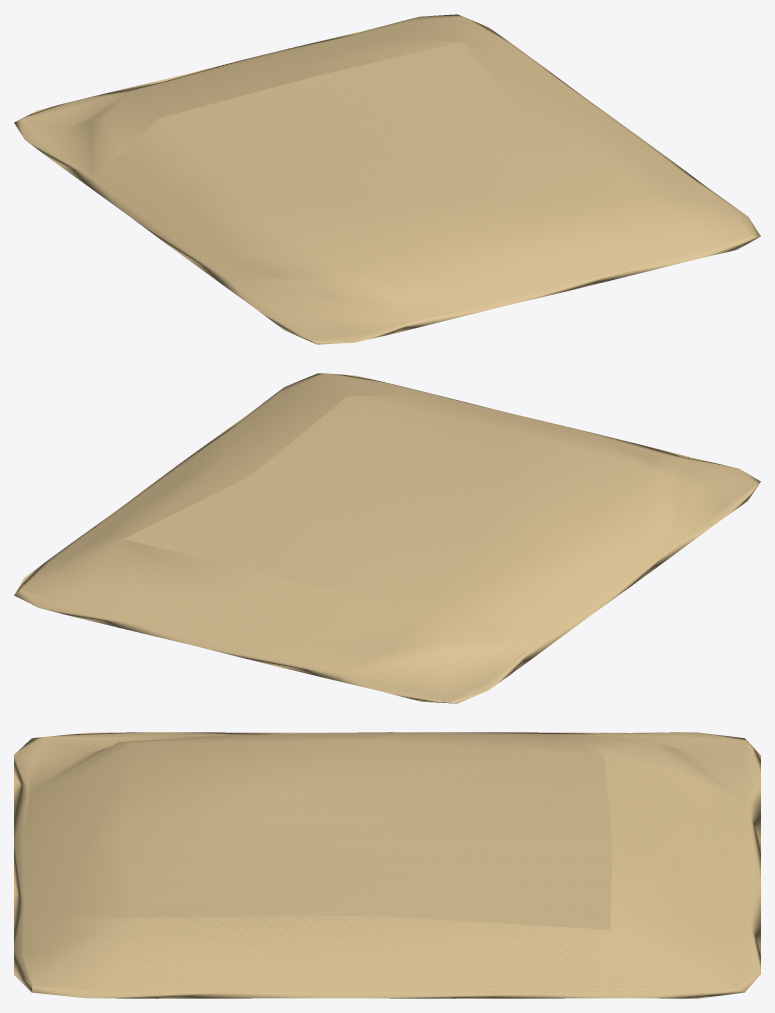
The model's file is island.fbx.
3 renders of one model, top to bottom at view 1: azimuth 30°, elevation 25°; view 2: azimuth 150°, elevation 25°; view 3: azimuth 270°, elevation 25°, orthographic. The views are drawn at different scales.
Parts seen in each view (by area): view 1: Box01; view 2: Box01; view 3: Box01.
Part boxes in pixels (x1,y1,x2,y2): Box01: (14,14,760,344); Box01: (14,373,760,703); Box01: (14,732,760,998).
Size of the model in its own units: 1458 by 84.8 by 1730.
Materials: 1 (1 with a texture image).
